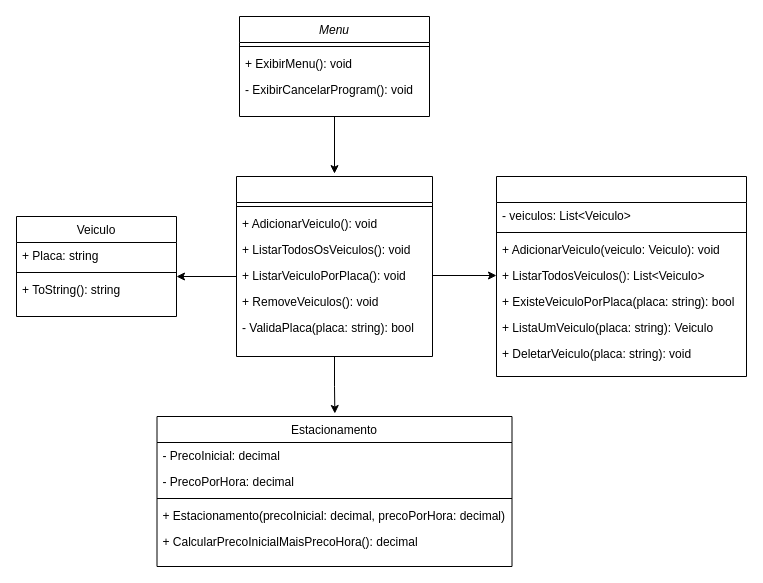
Some shapes in this 763 by 583 pixel diagram are drawn without their labels. The shapes that lost their labels are listed below. From the top down, each one's box as (x1, y1, x2, y2) in pixels, then its label:
(236, 176, 432, 356): VeiculoService
(496, 176, 746, 376): VeiculoRepositorio
